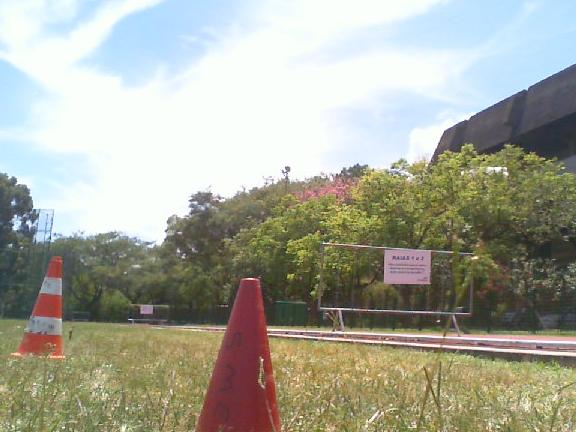0 cone: (191, 278, 288, 432), (11, 257, 65, 360)
